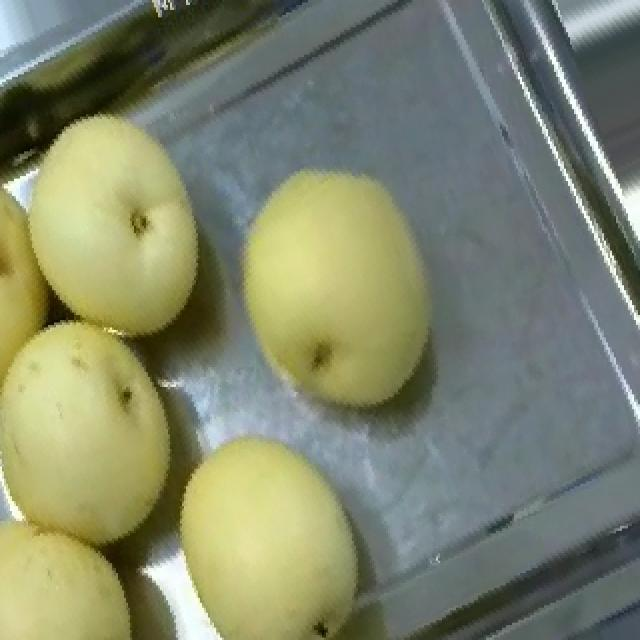Fruit: (200, 139, 464, 444), (140, 402, 408, 640), (4, 89, 230, 365), (2, 286, 204, 576)
